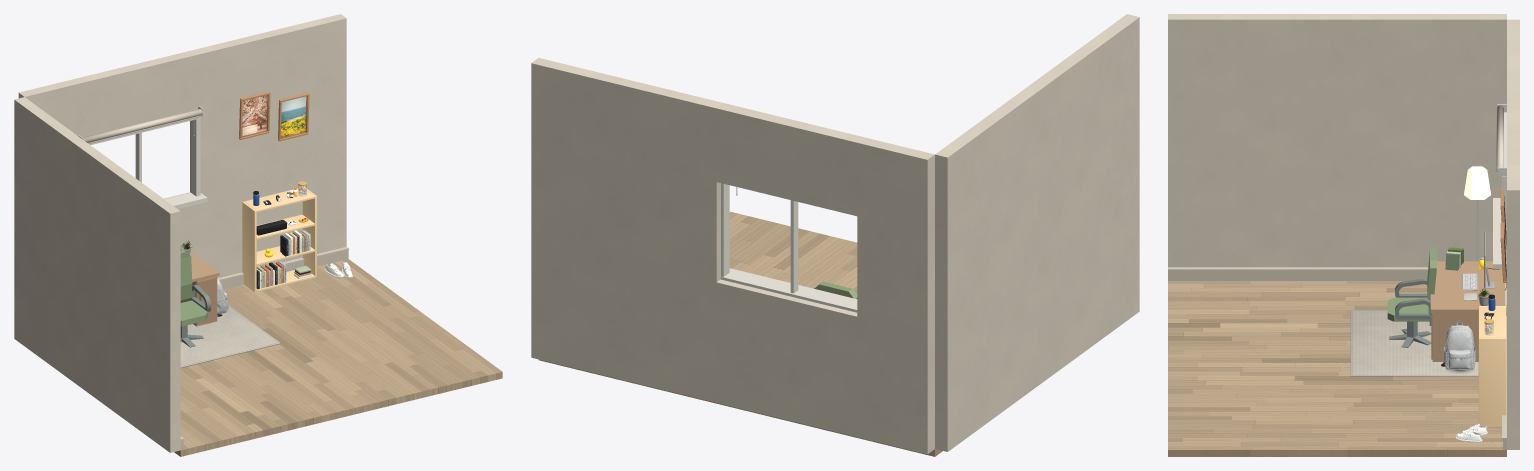
File: room.glb
3 views of the same model, side by side, from view 1: azimuth 30°, elevation 25°; view 2: azimuth 150°, elevation 25°; view 3: azimuth 270°, elevation 25° (orthographic). The views are drawn at different scales.
Visible parts, largest first — view 1: Left wall, Floor, Back wall right, Back wall above, Rug, Back wall left, chair, Bookcase side L, Print 0, Print 1, Blind roll, Bookcase side R (+6 smaller); view 2: Left wall, Back wall right, Back wall left, Back wall below, Back wall above, Floor, Frame bottom, Frame mullion, Frame right; view 3: Left wall, Floor, Rug, Back wall right, Left skirting, Desk top, Bookcase side R, chair, Backpack, Desk pedestal, Left skirting cap, lampRoundFloor(Clone) (+7 smaller).
Boxes of the visible parts, x1,y1,x2,y2 form: Left wall: [14, 97, 180, 452]; Floor: [174, 259, 502, 456]; Back wall right: [190, 14, 346, 278]; Back wall above: [76, 51, 195, 137]; Rug: [180, 305, 280, 367]; Back wall left: [18, 78, 81, 136]; chair: [180, 250, 211, 326]; Bookcase side L: [242, 201, 256, 292]; Print 0: [242, 95, 267, 136]; Print 1: [281, 96, 306, 137]; Blind roll: [83, 109, 202, 142]; Bookcase side R: [302, 187, 316, 277]; Left wall: [935, 14, 1139, 451]; Back wall right: [531, 58, 723, 402]; Back wall left: [857, 137, 934, 454]; Back wall below: [716, 279, 857, 436]; Back wall above: [716, 103, 864, 216]; Floor: [539, 211, 942, 456]; Frame bottom: [720, 268, 857, 312]; Frame mullion: [790, 200, 798, 293]; Frame right: [721, 183, 729, 276]; Left wall: [1168, 14, 1506, 267]; Floor: [1168, 281, 1506, 456]; Rug: [1350, 310, 1478, 376]; Back wall right: [1507, 110, 1519, 449]; Left skirting: [1168, 270, 1427, 280]; Desk top: [1430, 261, 1504, 312]; Bookcase side R: [1478, 337, 1506, 427]; chair: [1387, 247, 1436, 321]; Backpack: [1441, 320, 1476, 372]; Desk pedestal: [1432, 312, 1478, 361]; Left skirting cap: [1168, 267, 1428, 270]; lampRoundFloor(Clone): [1464, 166, 1490, 261].
Bounding box in the file's own units: 6.4 × 4.52 × 5.4.
Materials: 163 (9 with a texture image).
